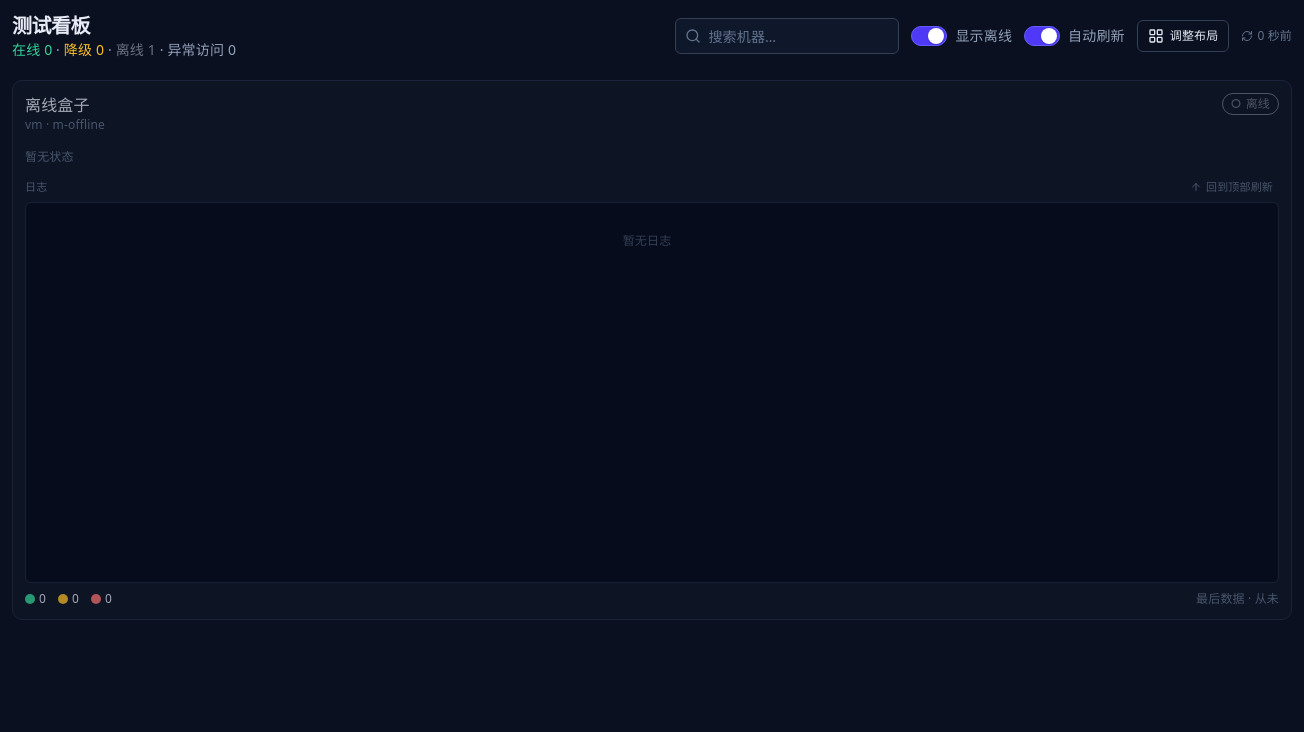
Scenario: DashboardPage offline visibility › restores hidden machines from the empty-state action
Expected: the link "离线盒子" is shown, x1=25 y1=93 x2=90 y2=117
Click the switch named "显示离线" next to "显示离线": (930, 36) x1=912 y1=26 x2=948 y2=46
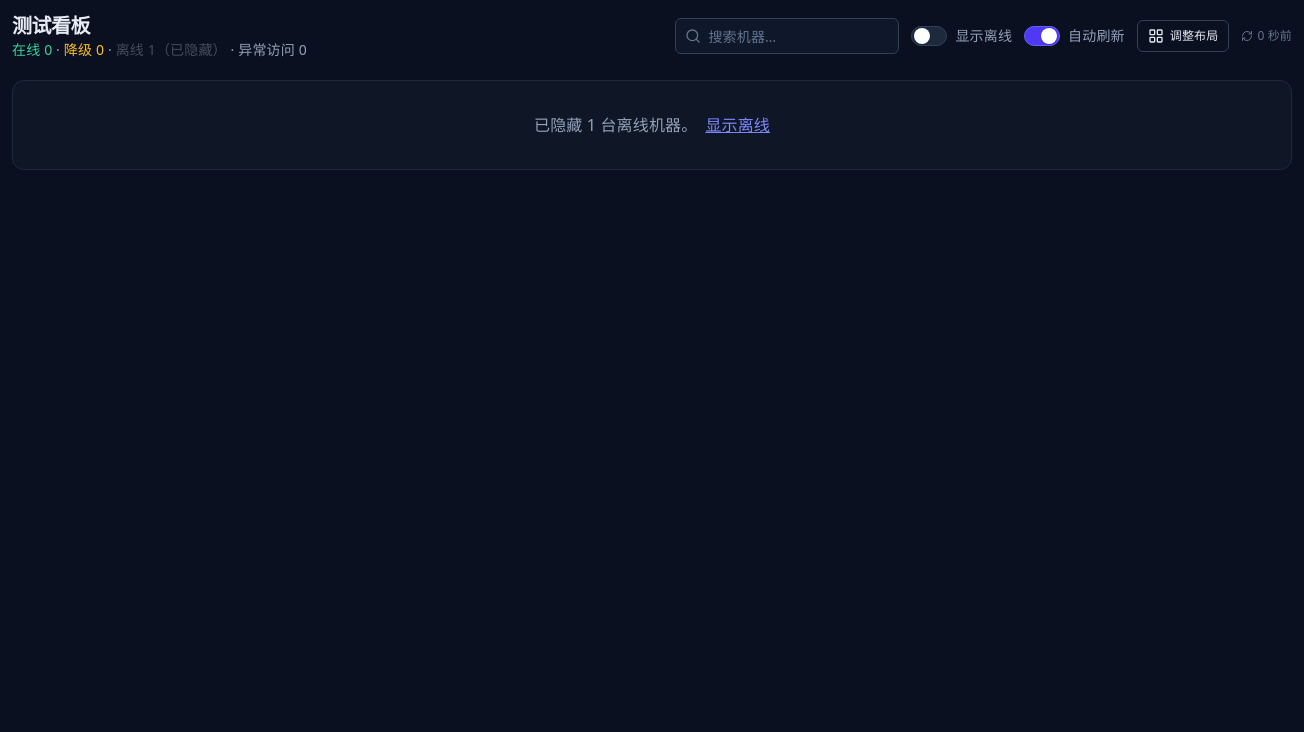
Expected: the text "已隐藏 1 台离线机器。 显示离线" is shown, x1=12 y1=80 x2=1292 y2=170
Click the button "显示离线": (738, 125) x1=705 y1=113 x2=770 y2=137
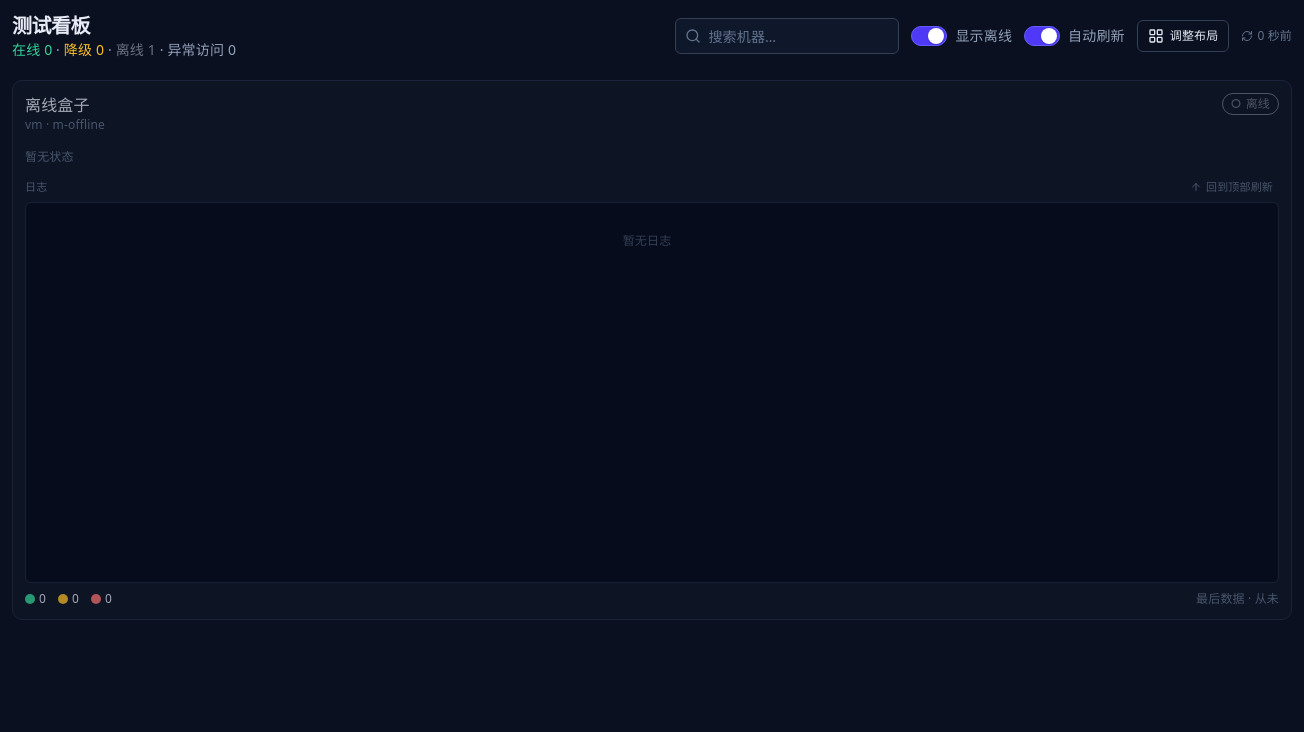
Expected: the link "离线盒子" is shown, x1=25 y1=93 x2=90 y2=117
